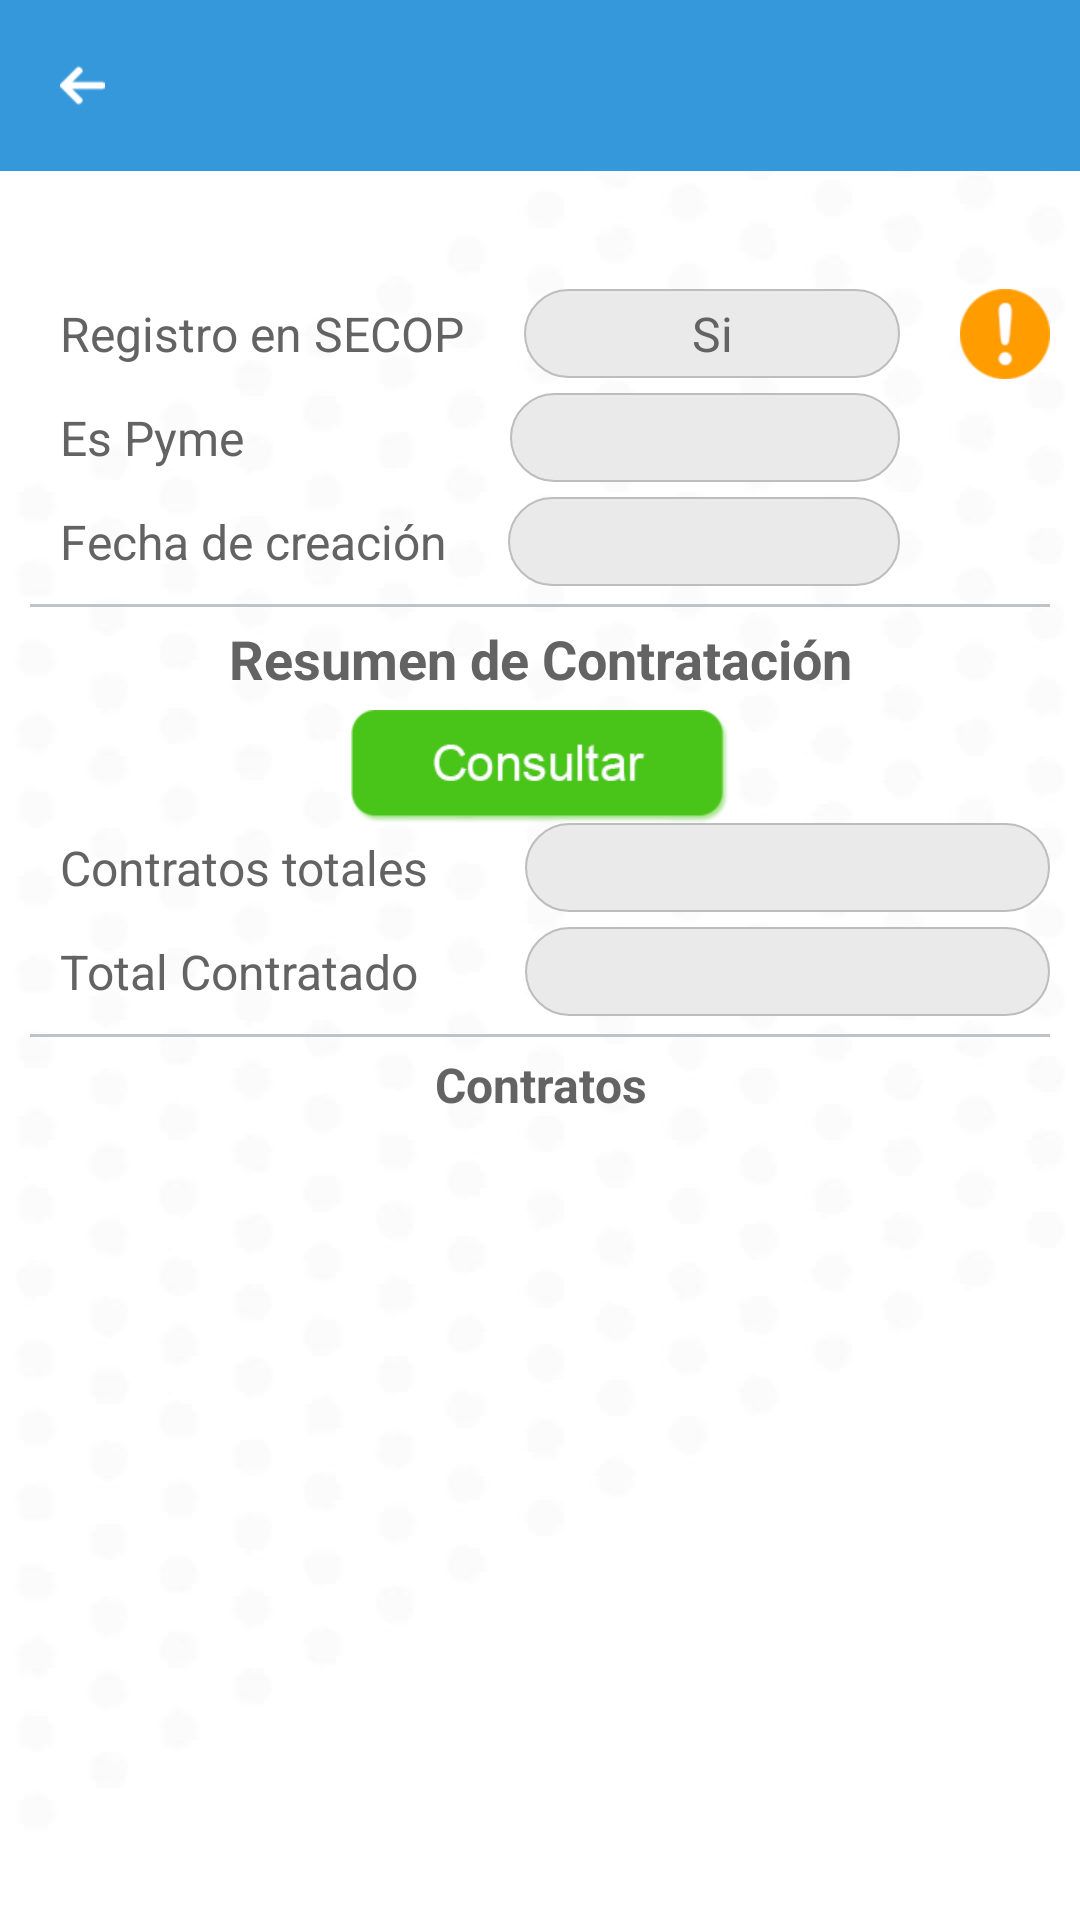

Icon bounding boxes for this 1080 × 1920 phone screenshot, format (x1, y1, x2, y2):
left arrow: (60, 66, 105, 105)
